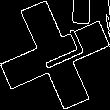L_SW: (26, 30, 84, 80)
